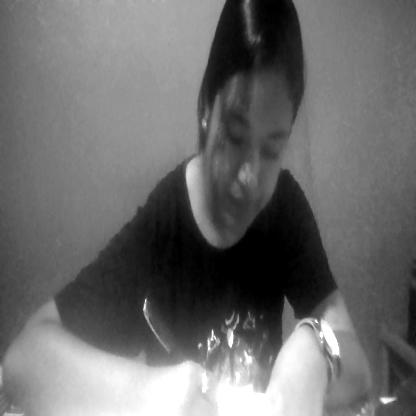Normal: (200, 44, 299, 232)
